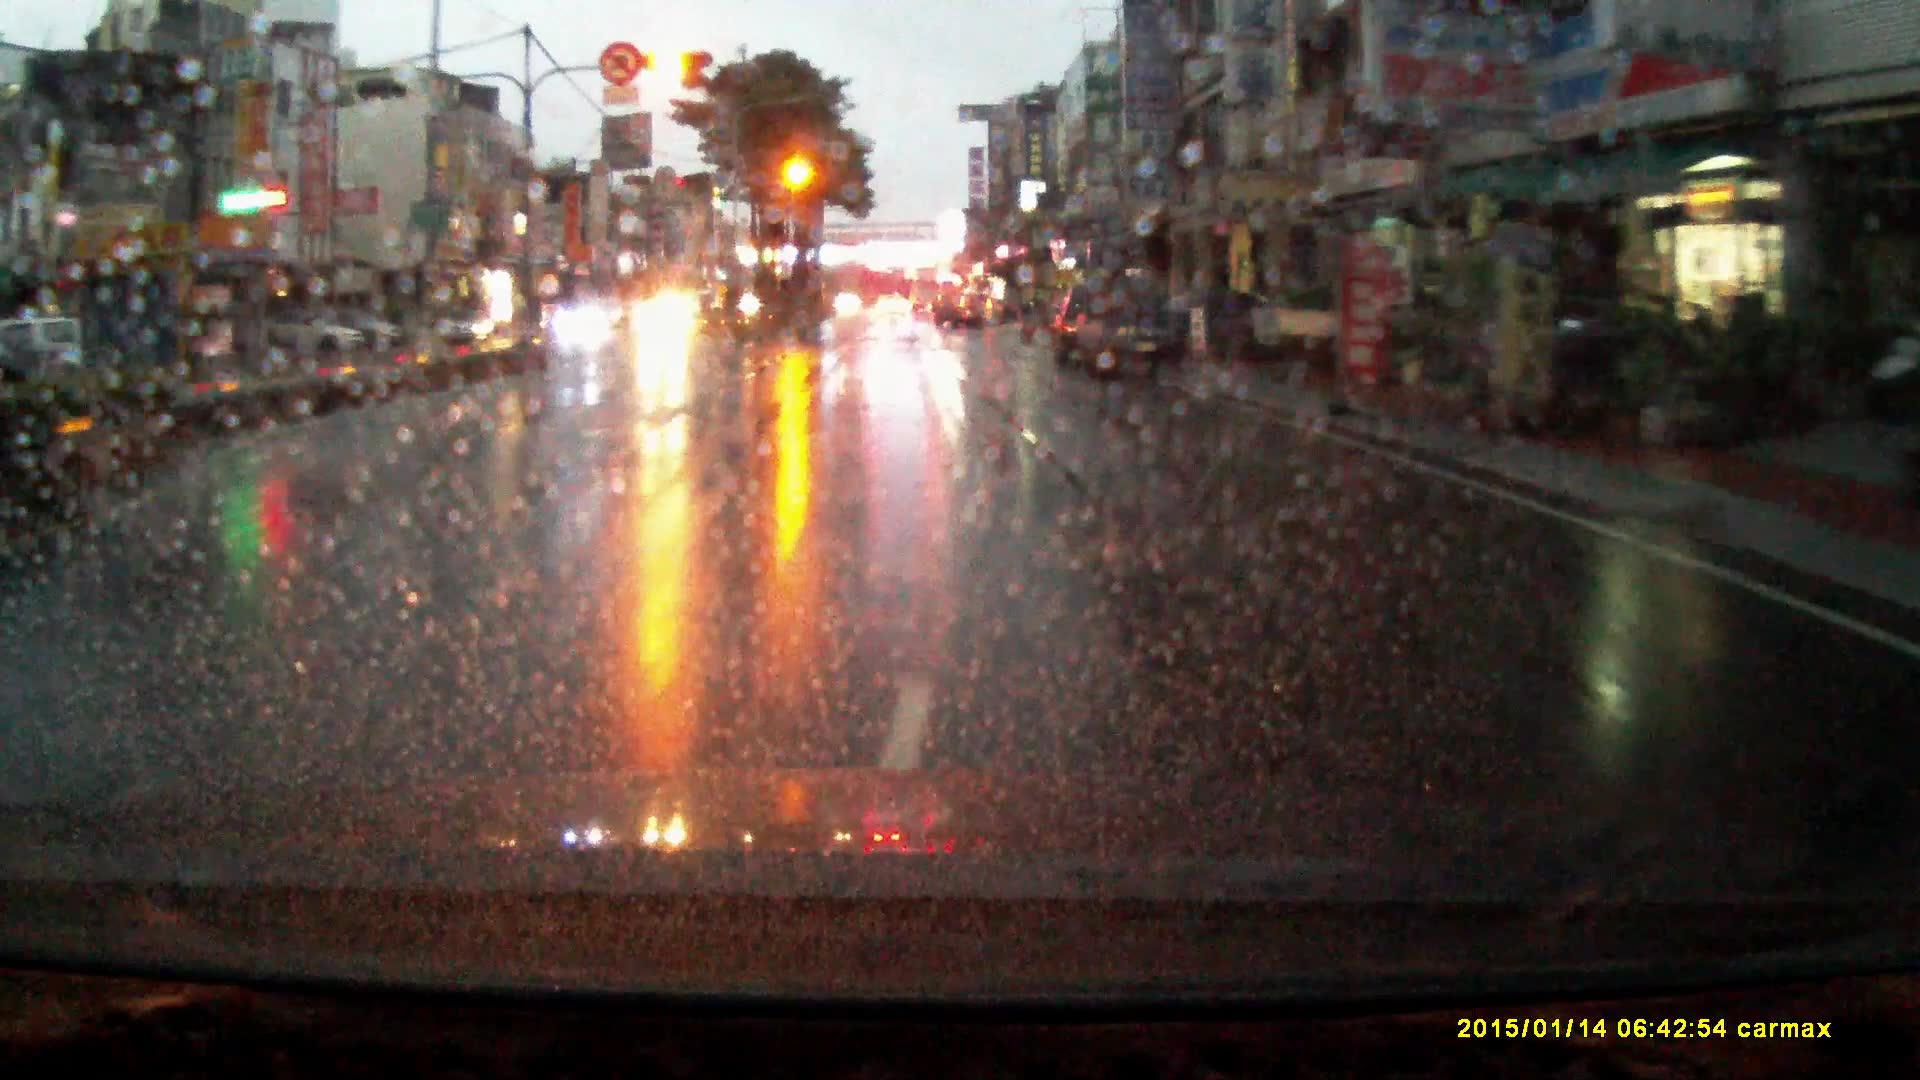vehicle: (1072, 276, 1193, 386), (1, 316, 88, 384), (1251, 310, 1362, 359), (255, 314, 360, 357), (630, 294, 703, 347), (1054, 286, 1088, 371), (935, 287, 996, 331), (339, 318, 407, 353), (556, 305, 617, 344), (436, 309, 496, 347), (911, 270, 944, 314), (876, 297, 913, 320)
